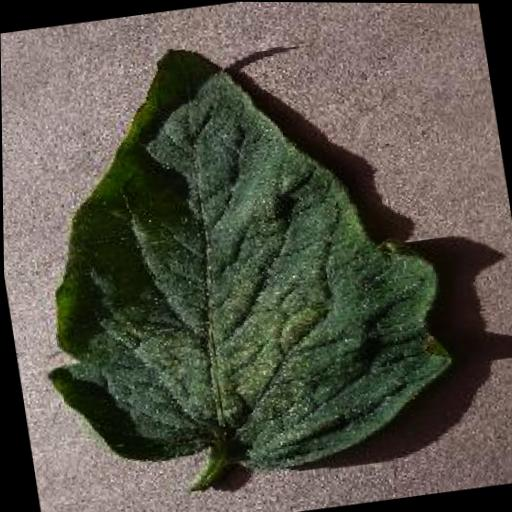Spider Mites: (0, 12, 467, 503)
